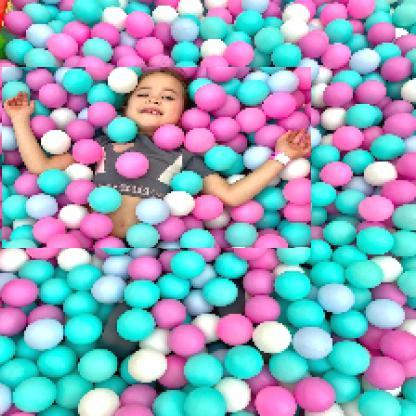child: (3, 68, 313, 250)
